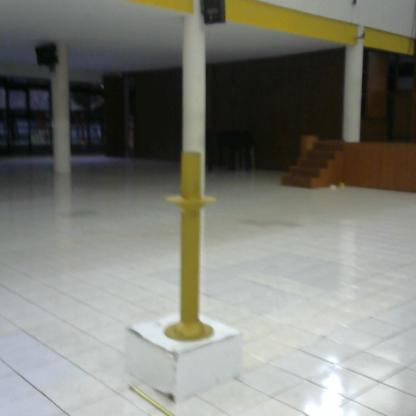pole: (159, 140, 223, 343)
